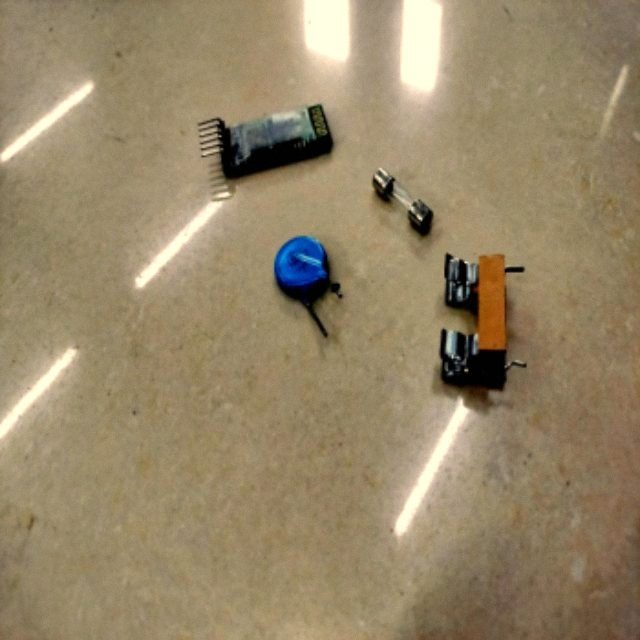capacitor: (274, 236, 332, 304)
